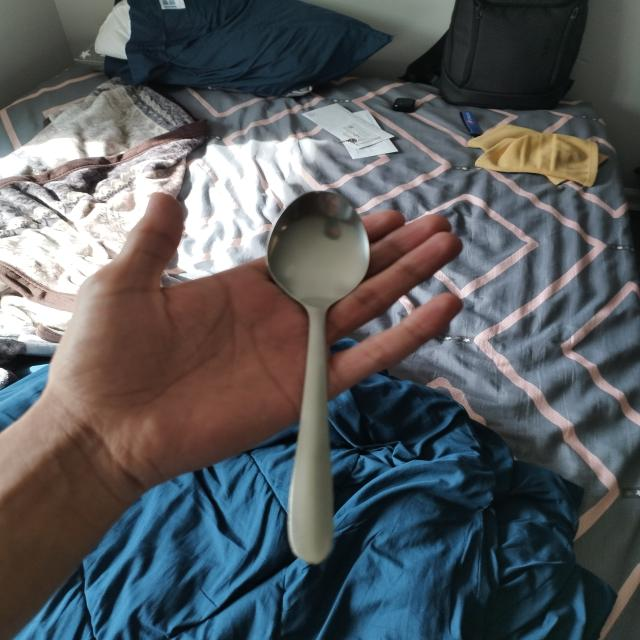Spoon: (243, 187, 382, 565)
